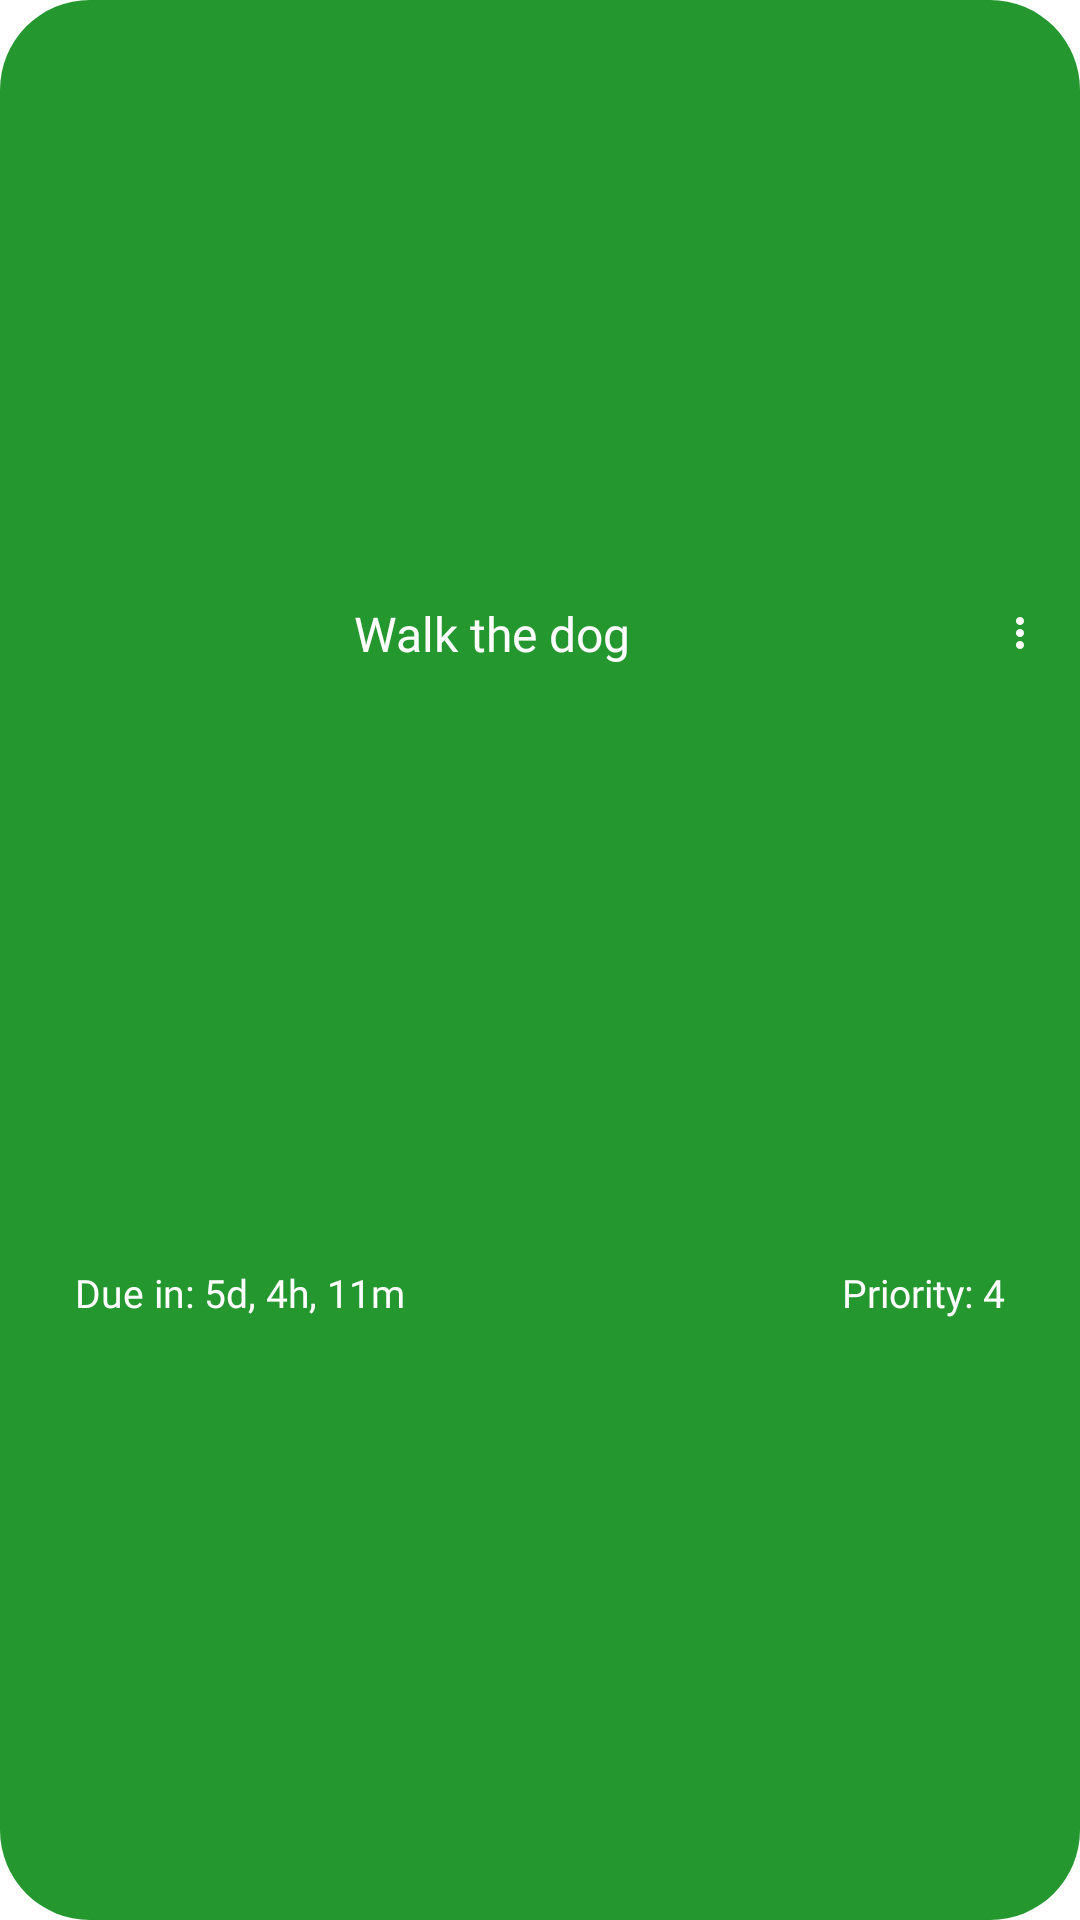

Where to tap for icons on this 1080x1920 app screen, as (x=x, y=y):
more vert: (x=1020, y=633)
